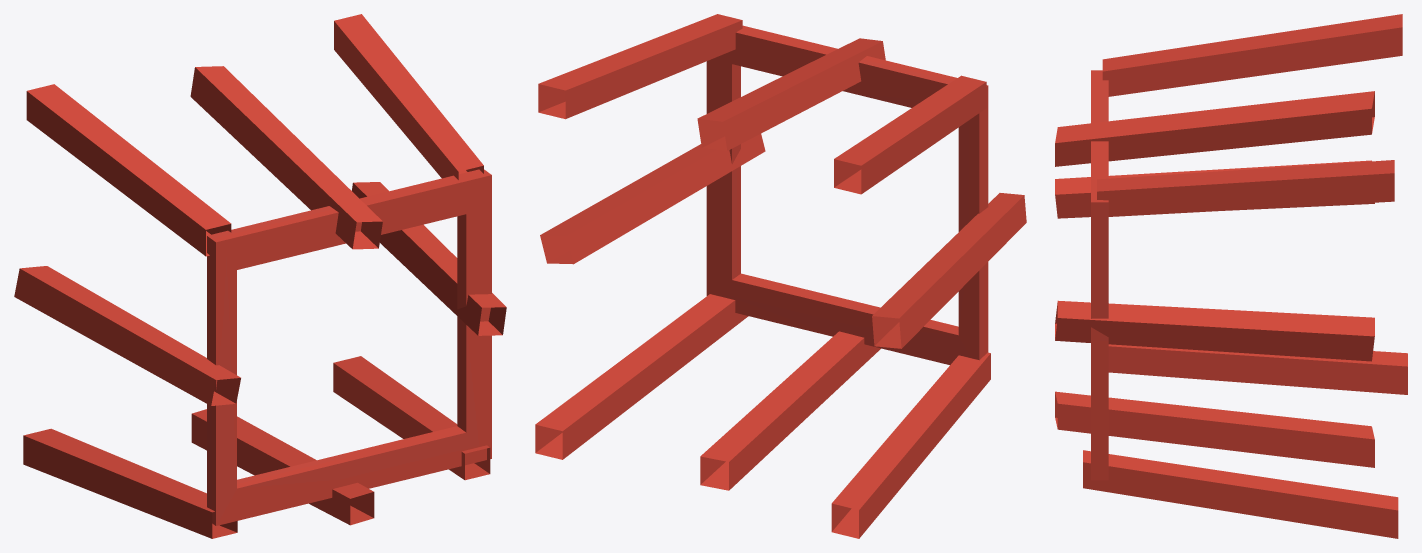
Rendered from 233_radiotower_004.gltf.
The picture shows the model from 3 angles, left to right: view 1: azimuth 30°, elevation 25°; view 2: azimuth 150°, elevation 25°; view 3: azimuth 270°, elevation 25°; orthographic projection. The views are drawn at different scales.
Parts seen in each view (by area): view 1: radiotower_004; view 2: radiotower_004; view 3: radiotower_004.
Boxes of the visible parts, x1,y1,x2,y2 form: radiotower_004: [14, 14, 506, 538]; radiotower_004: [535, 14, 1026, 538]; radiotower_004: [1055, 14, 1407, 538].
Size of the model in its own units: 6.03 by 5.93 by 5.14.
1 material, 1 textured.
